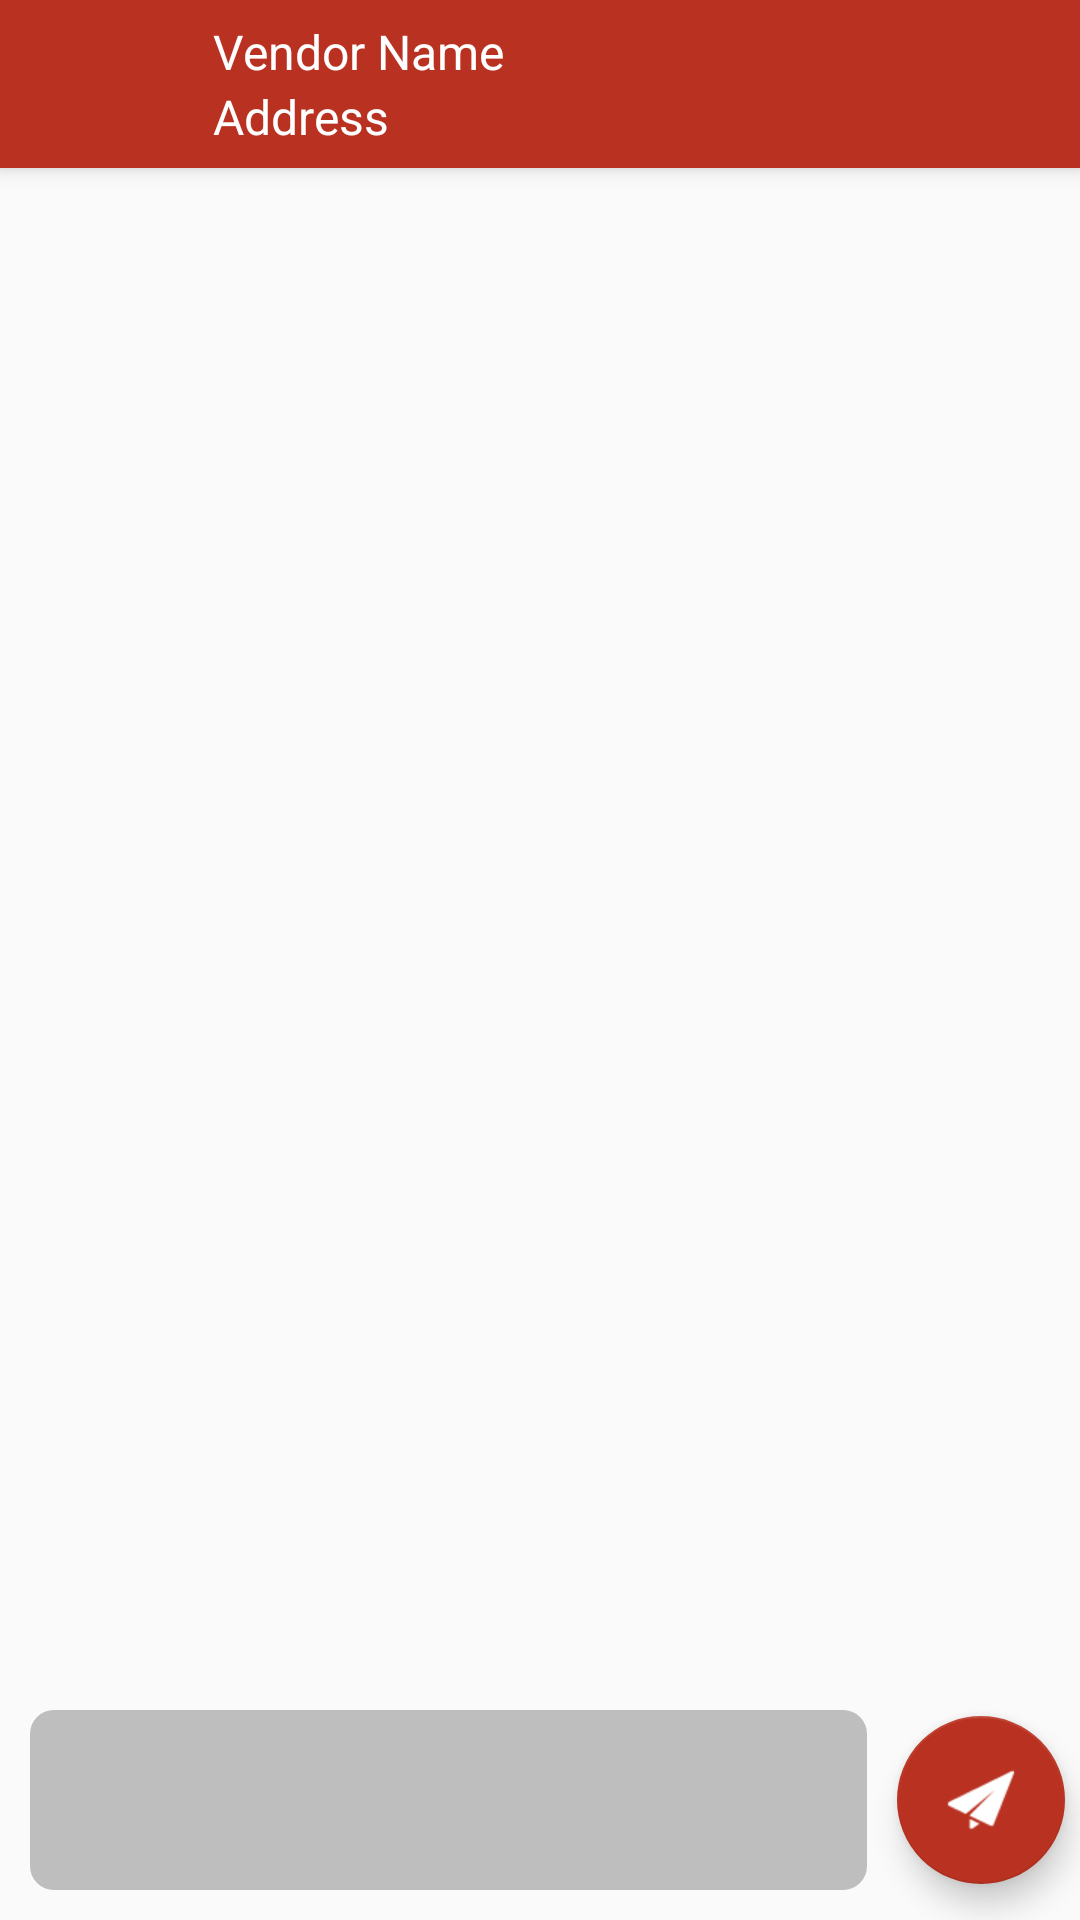

Named icons in this screenshot (1080x1920) and their centers, point (x, y):
sendm: point (981, 1800)
